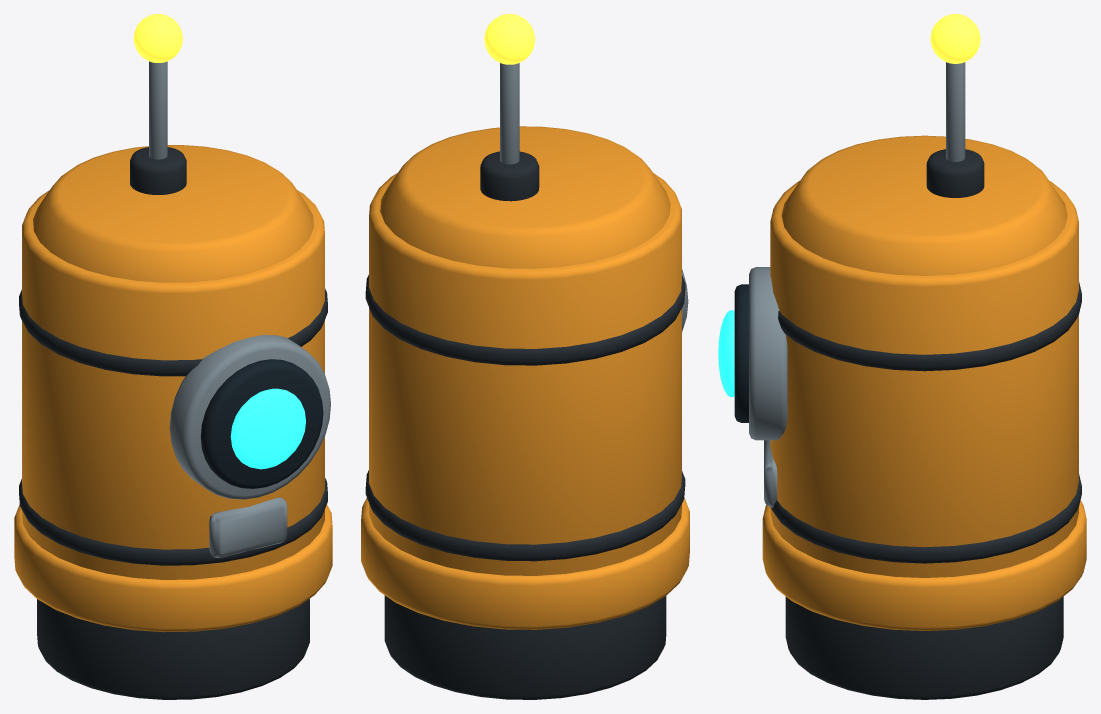
Rendered from ambar.glb.
3 renders of one model, left to right at view 1: azimuth 30°, elevation 25°; view 2: azimuth 150°, elevation 25°; view 3: azimuth 270°, elevation 25°, orthographic. The views are drawn at different scales.
Parts seen in each view (by area): view 1: Ambar tower, Crown cap, Drive rubber, Lower armor, Optic bezel.001, Optic glass.001, Optic luminous lens.001, Dark gasket, Dark gasket.001, Front service panel, Antenna socket.003, Antenna beacon.003 (+1 smaller); view 2: Ambar tower, Crown cap, Drive rubber, Lower armor, Dark gasket.001, Dark gasket, Antenna socket.003, Antenna beacon.003, Antenna stem.003; view 3: Ambar tower, Crown cap, Drive rubber, Lower armor, Optic bezel.001, Dark gasket, Dark gasket.001, Antenna socket.003, Optic glass.001, Antenna beacon.003, Antenna stem.003, Optic luminous lens.001 (+1 smaller).
Part boxes in pixels (x1,y1,x2,y2): Ambar tower: (22, 190, 324, 579); Crown cap: (33, 145, 313, 282); Drive rubber: (37, 598, 309, 699); Lower armor: (14, 504, 332, 632); Optic bezel.001: (169, 335, 330, 499); Optic glass.001: (200, 359, 323, 488); Optic luminous lens.001: (230, 388, 305, 469); Dark gasket: (19, 478, 327, 565); Dark gasket.001: (19, 288, 327, 376); Front service panel: (209, 497, 287, 557); Antenna socket.003: (130, 147, 186, 194); Antenna beacon.003: (133, 14, 182, 62); Ambar tower: (369, 173, 681, 575); Crown cap: (380, 126, 670, 268); Drive rubber: (384, 595, 666, 699); Lower armor: (361, 498, 689, 629); Dark gasket.001: (365, 274, 685, 365); Dark gasket: (365, 470, 685, 561); Antenna socket.003: (480, 151, 539, 201); Antenna beacon.003: (484, 14, 535, 64); Antenna stem.003: (500, 63, 519, 164); Ambar tower: (770, 181, 1078, 577); Crown cap: (781, 135, 1067, 275); Drive rubber: (785, 596, 1063, 699); Lower armor: (762, 500, 1086, 630); Optic bezel.001: (749, 267, 787, 440); Dark gasket: (771, 474, 1081, 563); Dark gasket.001: (778, 282, 1081, 371); Antenna socket.003: (926, 149, 984, 197); Optic glass.001: (734, 284, 748, 422); Antenna beacon.003: (930, 14, 980, 63); Antenna stem.003: (946, 62, 965, 161); Optic luminous lens.001: (718, 310, 734, 397).
Bounding box in the file's own units: 0.84 × 1.8 × 0.955.
